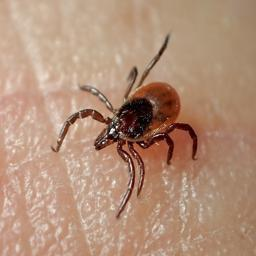Ixodes scapularis: (52, 30, 198, 220)
